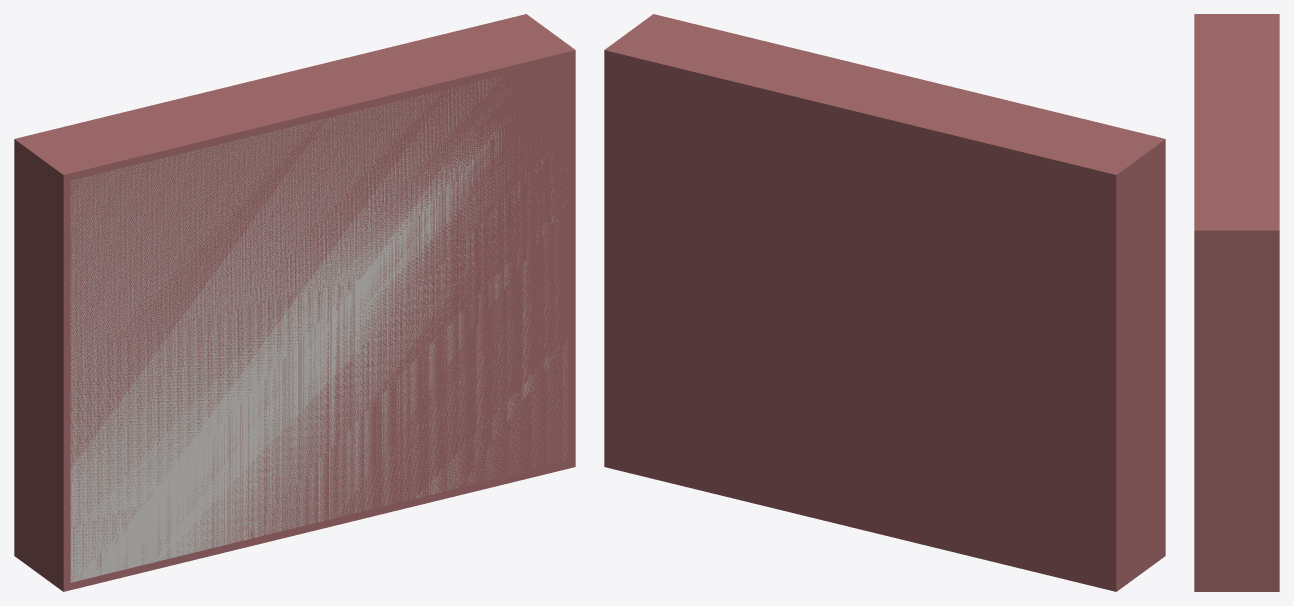
The model's file is diary_book.glb.
3 renders of one model, left to right at view 1: azimuth 30°, elevation 25°; view 2: azimuth 150°, elevation 25°; view 3: azimuth 270°, elevation 25°, orthographic. The views are drawn at different scales.
Parts seen in each view (by area): view 1: world; view 2: world; view 3: world.
Boxes of the visible parts, x1,y1,x2,y2 form: world: [14, 14, 575, 591]; world: [604, 14, 1165, 591]; world: [1194, 14, 1279, 591].
Bounding box in the file's own units: 0.18 × 0.14 × 0.03.
